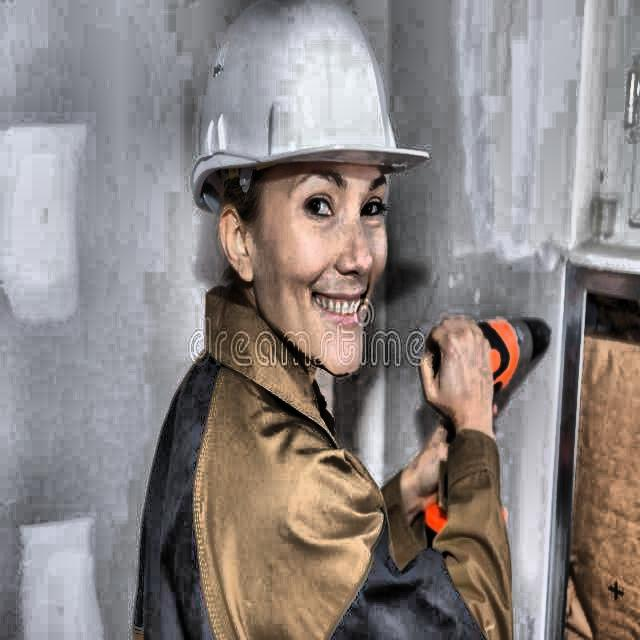person: (127, 7, 507, 640)
